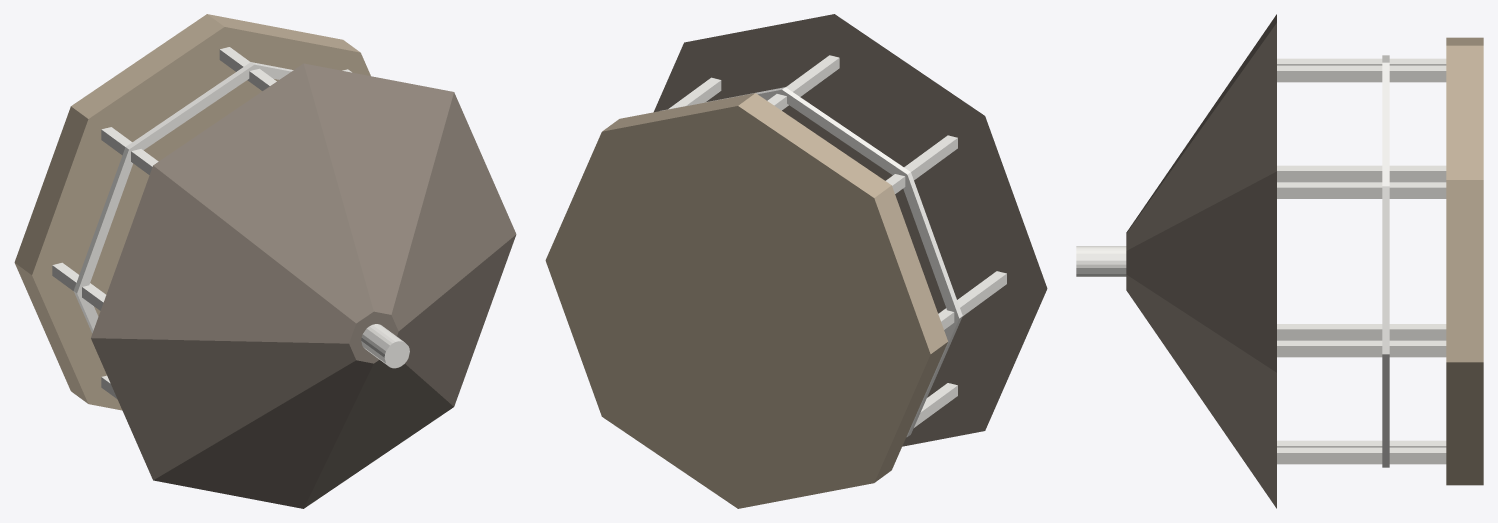
Rendered from r-1-south-cove-gazebo.glb.
3 views of the same model, side by side, from view 1: azimuth 30°, elevation 25°; view 2: azimuth 150°, elevation 25°; view 3: azimuth 270°, elevation 25° (orthographic). The views are drawn at different scales.
Visible parts, largest first — view 1: roof, floor, posts-and-rail; view 2: floor, roof, posts-and-rail; view 3: roof, posts-and-rail, floor.
Part boxes in pixels (x1,y1,x2,y2): roof: (91, 63, 516, 508); floor: (14, 14, 370, 410); posts-and-rail: (52, 47, 409, 399); floor: (545, 93, 947, 508); roof: (654, 14, 1047, 446); posts-and-rail: (660, 55, 1006, 437); roof: (1126, 14, 1276, 508); posts-and-rail: (1076, 55, 1446, 467); floor: (1446, 37, 1483, 485).
Bounding box in the file's own units: 8400 × 8400 × 6500.
